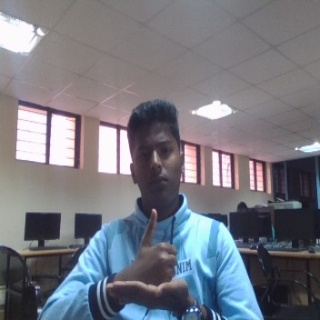Face: (127, 97, 185, 208)
Help: (105, 208, 193, 310)
